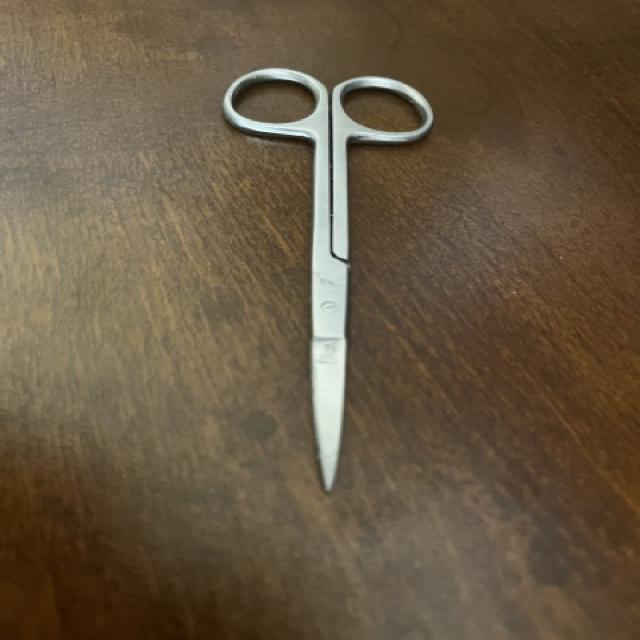scissor: (218, 61, 445, 507)
